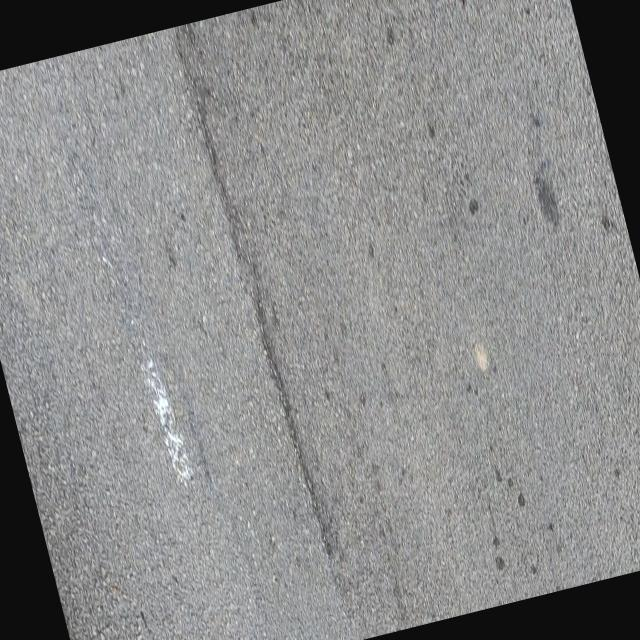Retak-Memanjang: (256, 307, 335, 567), (173, 28, 231, 221)
